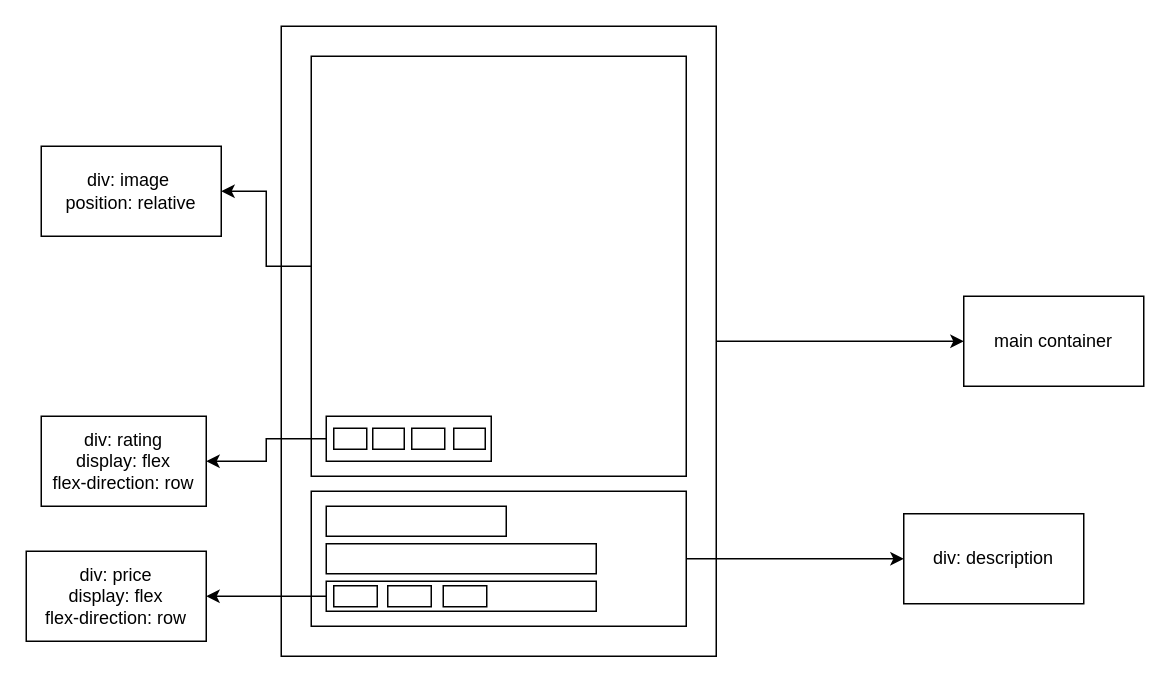
Image size: 1170x683. Some labels were removed from this diagram. Here are the shapes that lost their labels. From the top down, the box of each, then its label:
(325, 505, 506, 536): h3
(325, 542, 596, 574): description
